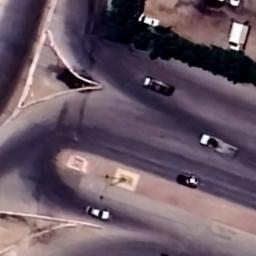sedan: (144, 76, 176, 97), (86, 206, 110, 222), (176, 174, 198, 188), (140, 14, 160, 26)
truck: (200, 132, 238, 160), (228, 21, 250, 53)
